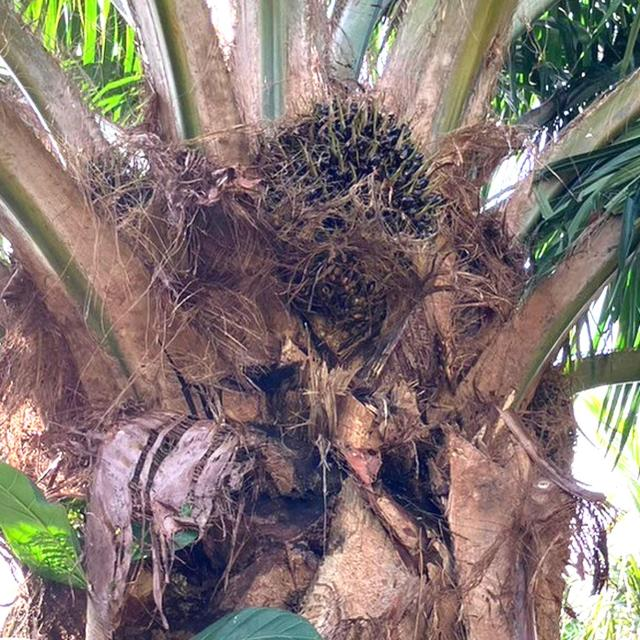unripe: (274, 100, 440, 263)
